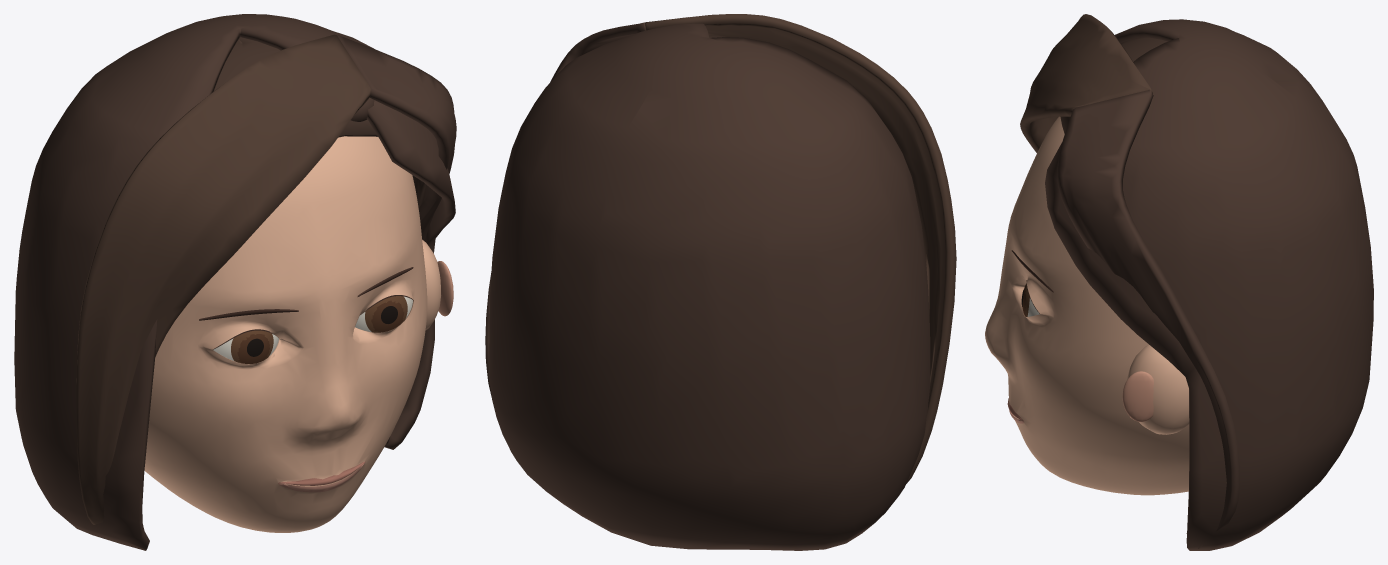
The model's file is female-head-v3.glb.
3 renders of one model, left to right at view 1: azimuth 30°, elevation 25°; view 2: azimuth 150°, elevation 25°; view 3: azimuth 270°, elevation 25°, orthographic. The views are drawn at different scales.
Visible parts, largest first — view 1: Female V3 · face with connected eyelids and lips [static hea, Female V3 · rounded bob back with ear tuck [static head], Female V3 · side-swept fringe [static head], Female V3 · tucked temple section [static head], Female V3 · fitted scalp below swept sections [static head], Female V3 · ear.001 [static head], Female V3 · clipped curved iris.001 [static head], Female V3 · clipped curved iris [static head], Female V3 · inner ear.001 [static head]; view 2: Female V3 · rounded bob back with ear tuck [static head], Female V3 · side-swept fringe [static head], Female V3 · tucked temple section [static head]; view 3: Female V3 · rounded bob back with ear tuck [static head], Female V3 · face with connected eyelids and lips [static hea, Female V3 · tucked temple section [static head], Female V3 · side-swept fringe [static head], Female V3 · ear.001 [static head], Female V3 · inner ear.001 [static head], Female V3 · fitted scalp below swept sections [static head].
Part boxes in pixels (x1,y1,x2,y2): Female V3 · face with connected eyelids and lips [static hea: [144, 136, 427, 532]; Female V3 · rounded bob back with ear tuck [static head]: [14, 14, 455, 550]; Female V3 · side-swept fringe [static head]: [76, 34, 370, 524]; Female V3 · tucked temple section [static head]: [337, 35, 456, 443]; Female V3 · fitted scalp below swept sections [static head]: [214, 37, 426, 207]; Female V3 · ear.001 [static head]: [422, 240, 440, 329]; Female V3 · clipped curved iris.001 [static head]: [231, 330, 273, 363]; Female V3 · clipped curved iris [static head]: [365, 296, 407, 332]; Female V3 · inner ear.001 [static head]: [437, 261, 453, 316]; Female V3 · rounded bob back with ear tuck [static head]: [489, 23, 930, 550]; Female V3 · side-swept fringe [static head]: [645, 14, 956, 483]; Female V3 · tucked temple section [static head]: [485, 17, 688, 397]; Female V3 · rounded bob back with ear tuck [static head]: [1045, 19, 1373, 550]; Female V3 · face with connected eyelids and lips [static hea: [985, 116, 1189, 495]; Female V3 · tucked temple section [static head]: [1057, 90, 1239, 548]; Female V3 · side-swept fringe [static head]: [1020, 14, 1152, 152]; Female V3 · ear.001 [static head]: [1127, 345, 1189, 434]; Female V3 · inner ear.001 [static head]: [1122, 371, 1153, 421]; Female V3 · fitted scalp below swept sections [static head]: [1060, 37, 1167, 133].
Size of the model in its own units: 0.2696 by 0.2995 by 0.2334.
